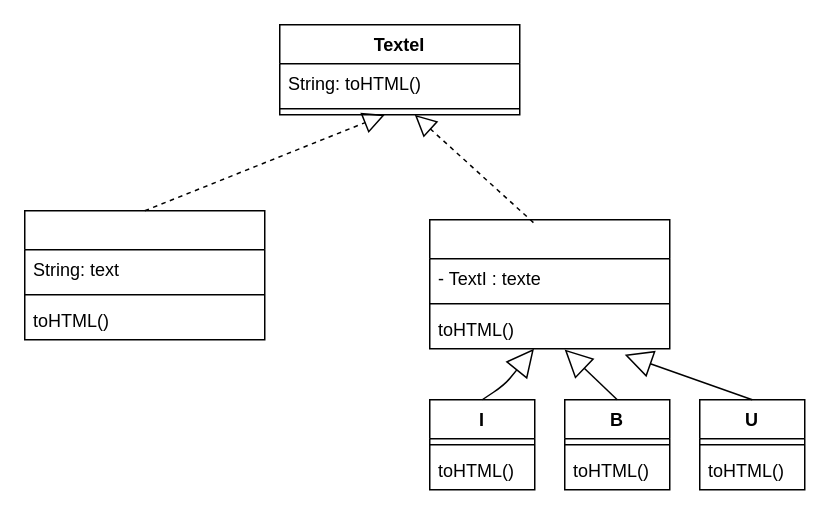
This 830x515 diagram has some shape labels left out. Here are the shapes that lost their labels. From the top down, the box of each, then its label:
(23, 209, 265, 340): Texte
(428, 218, 670, 349): Decorator
